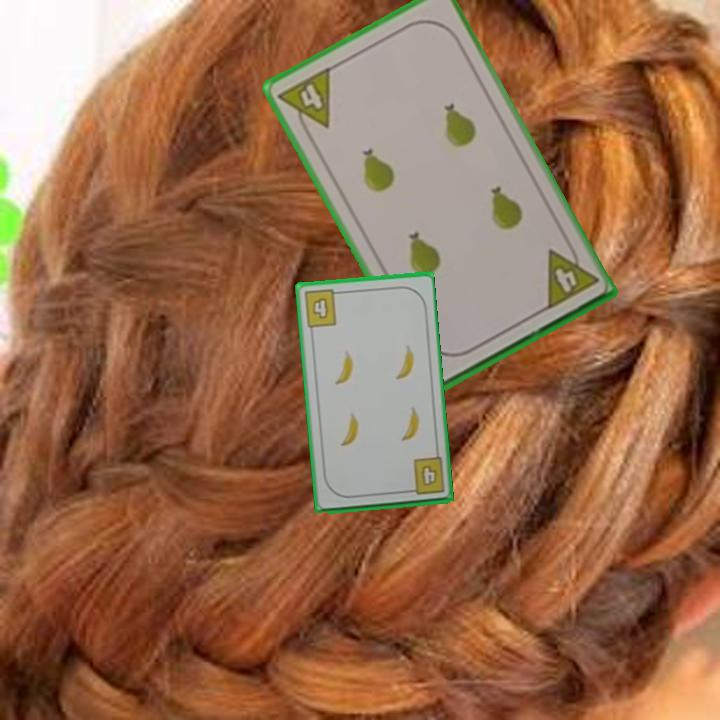4b: (300, 286, 344, 330), (403, 454, 447, 498)
4p: (274, 63, 334, 141), (542, 237, 601, 313)
